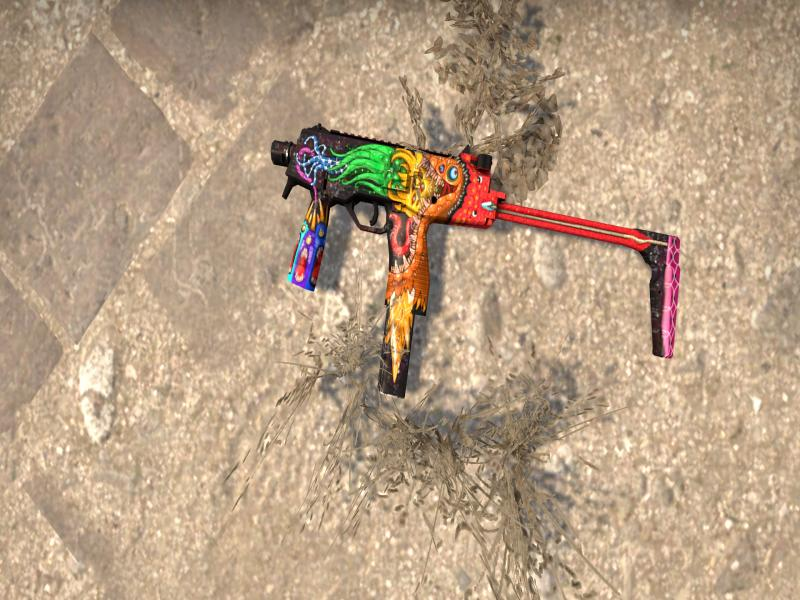MP9: (271, 124, 650, 396)
